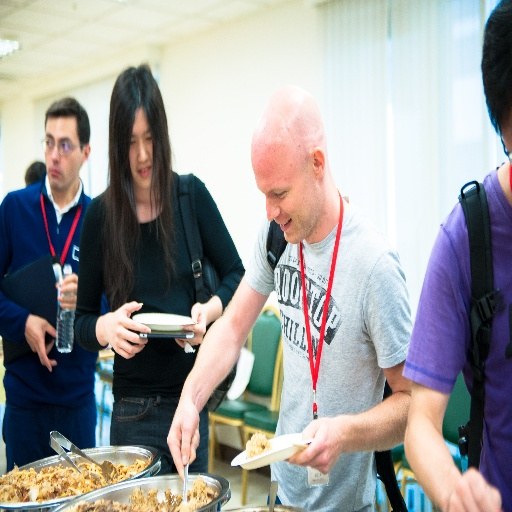hand: (284, 415, 344, 474), (166, 393, 201, 483), (95, 304, 145, 359), (448, 464, 501, 511), (25, 311, 59, 376), (176, 299, 209, 350), (54, 272, 80, 312)
